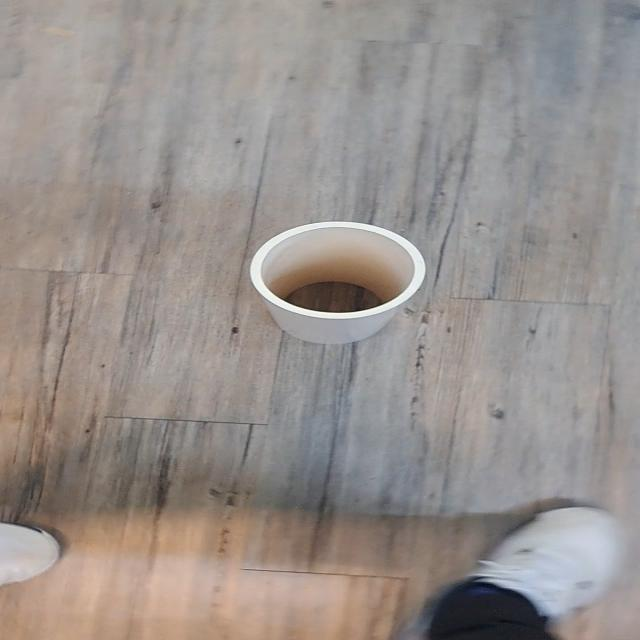CORAL: (202, 192, 447, 373)
